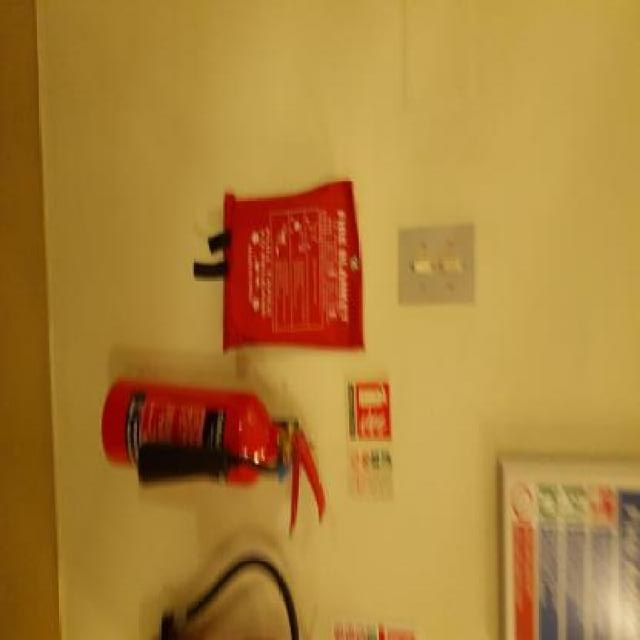fire extinguisher: (99, 382, 327, 542)
